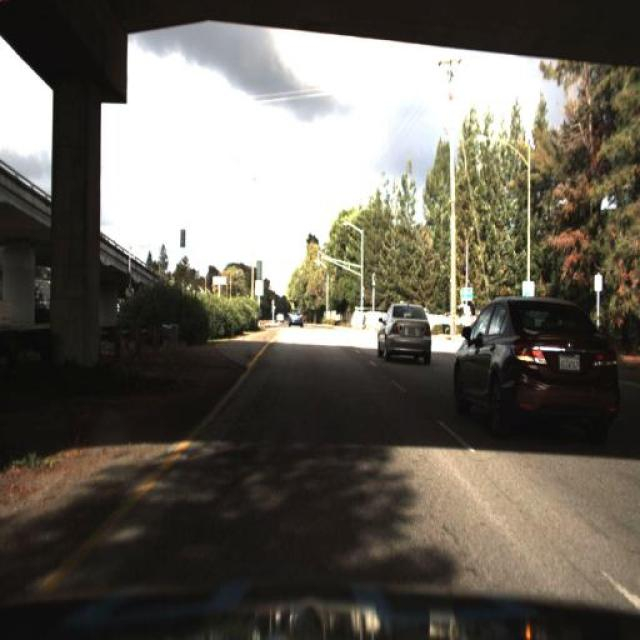car: (453, 291, 618, 433), (374, 296, 438, 373), (284, 307, 305, 332)
